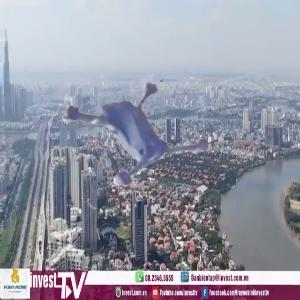drone: (33, 55, 195, 217)
